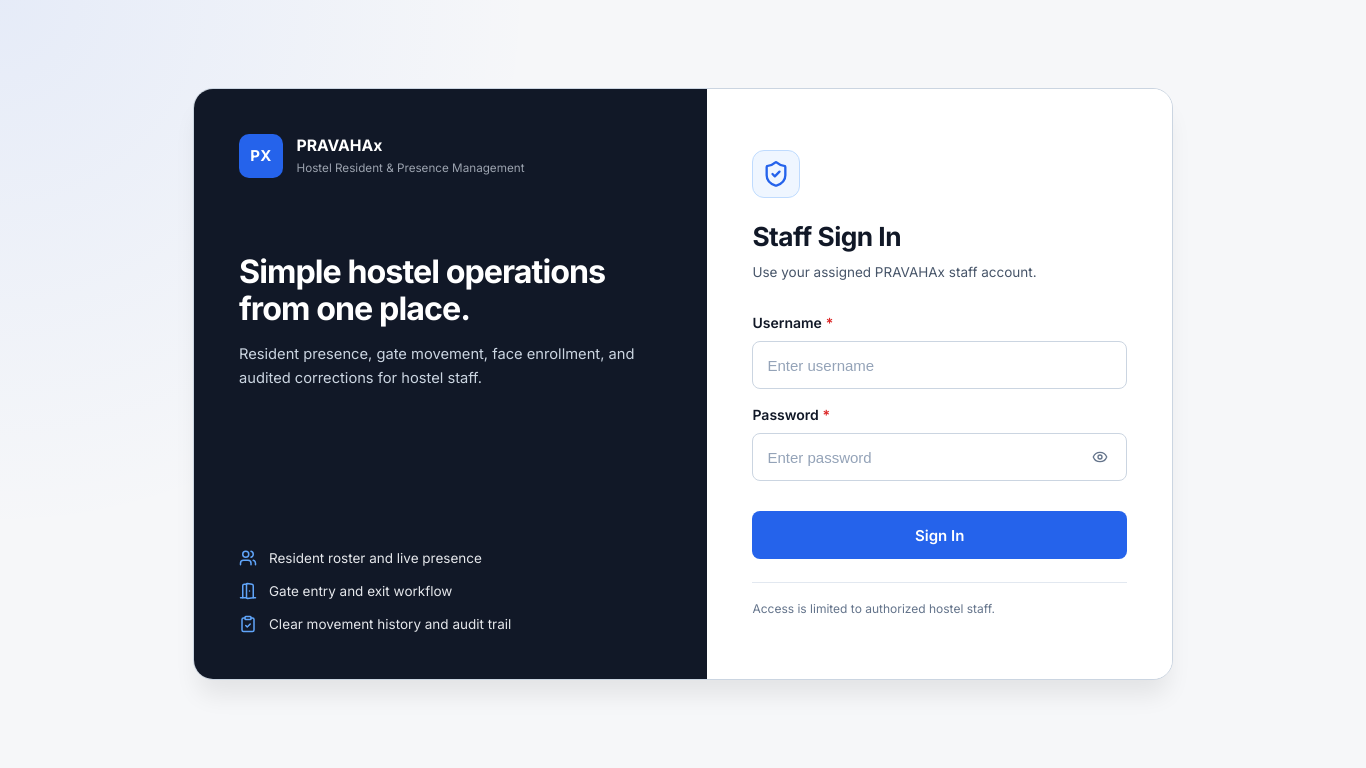
Test case: LoginPage Component › validates required fields and shows inline errors without submitting
The width and height of the screenshot is (1366, 768).
Click the button "Sign In". click: (940, 535)
box: [752,511,1127,559]
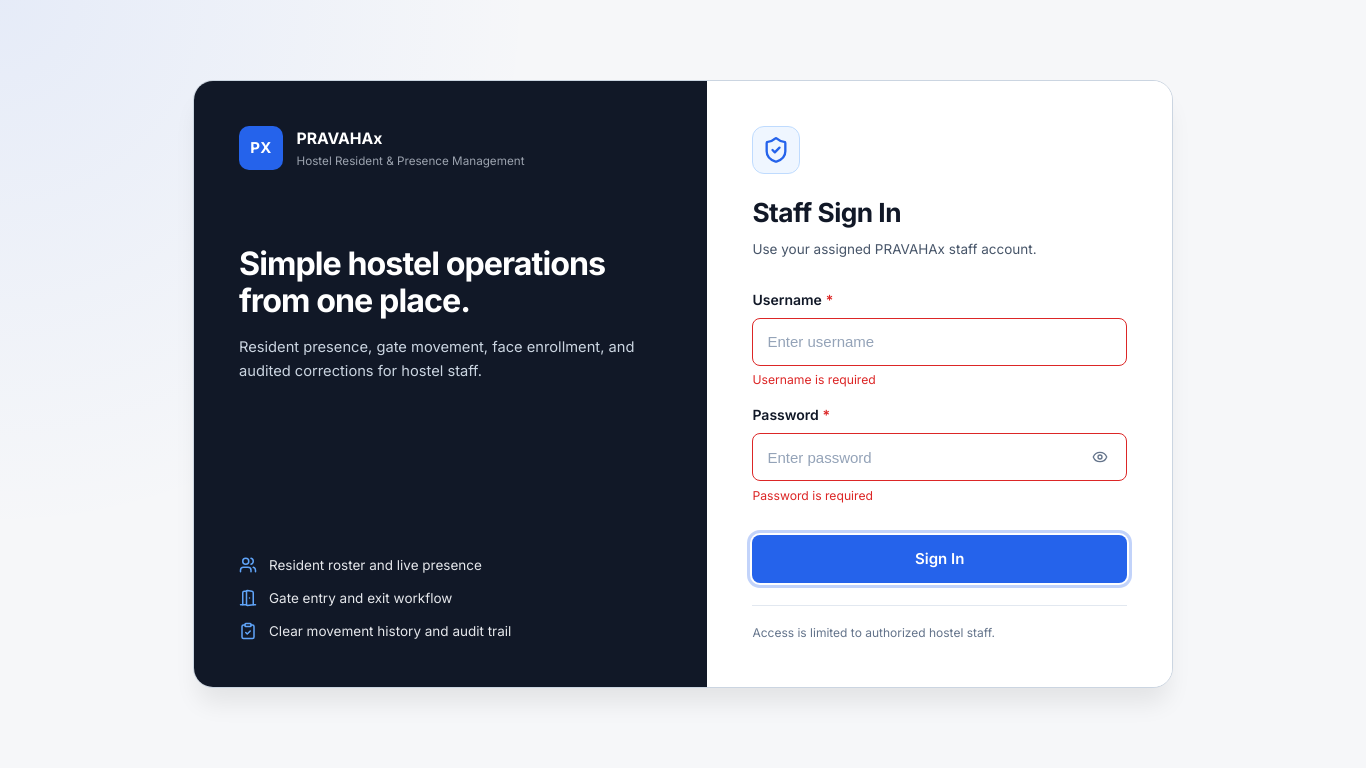
expect the text "Username is required" is shown: met, box [752,372,876,387]
expect the text "Password is required" is shown: met, box [752,488,873,503]
